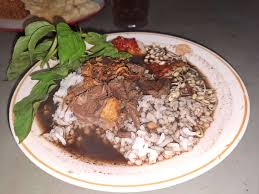Rawon: (33, 36, 221, 172)
